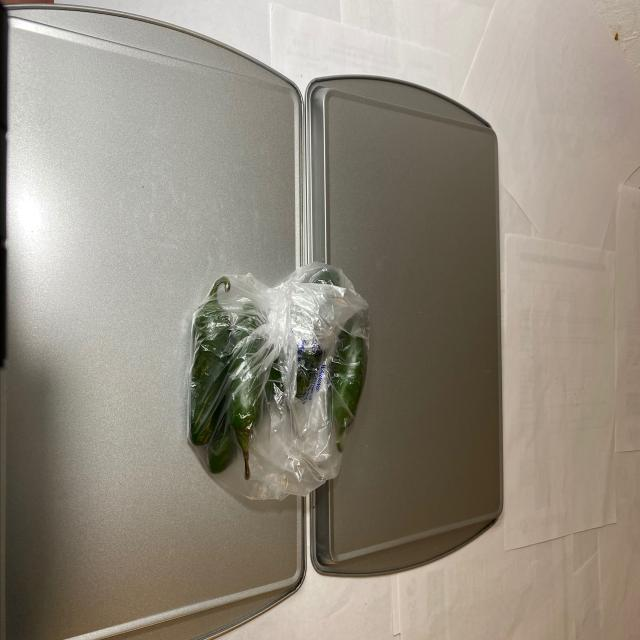chilli: (178, 266, 373, 482)
